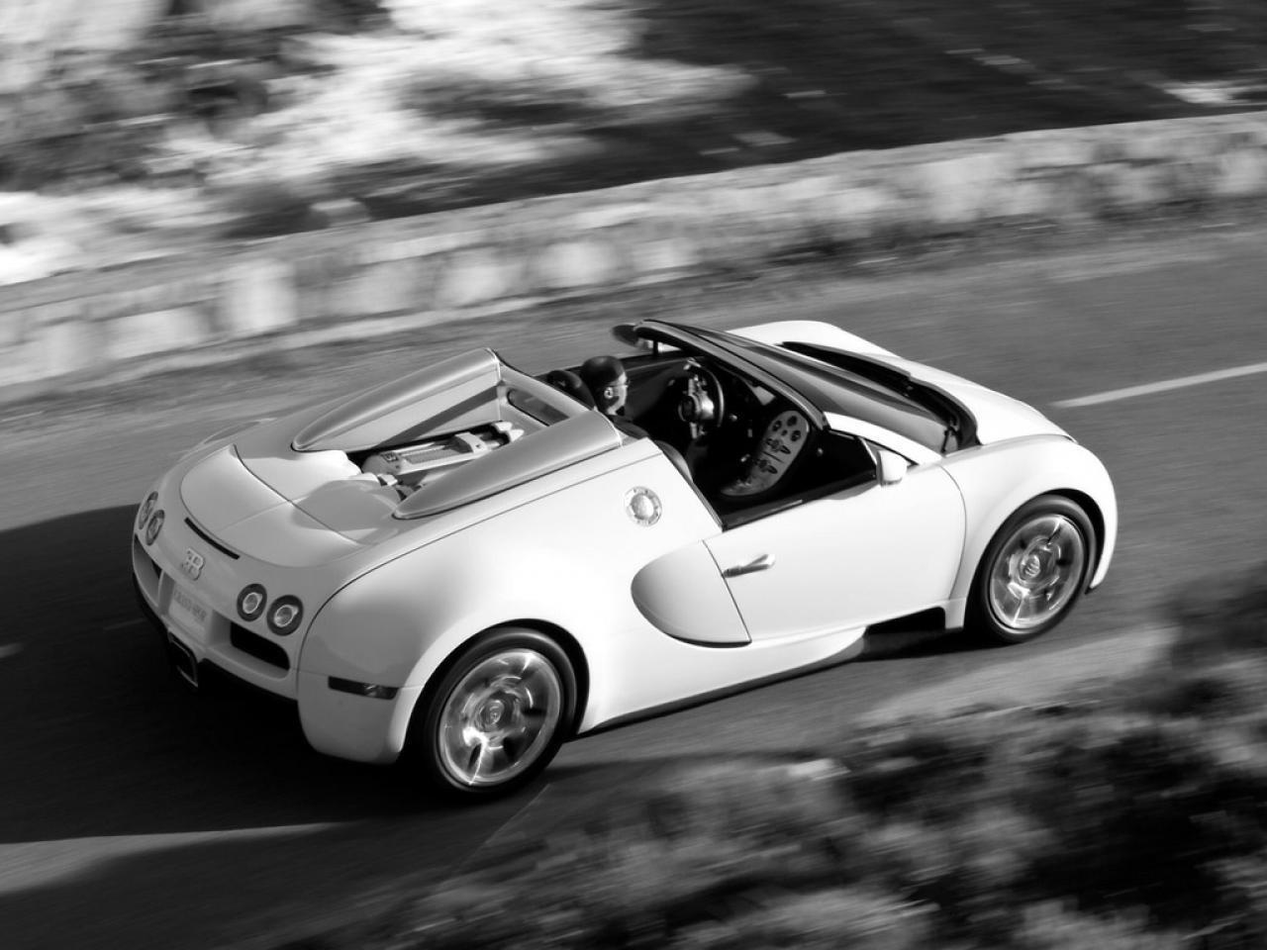car: (132, 315, 1118, 804)
